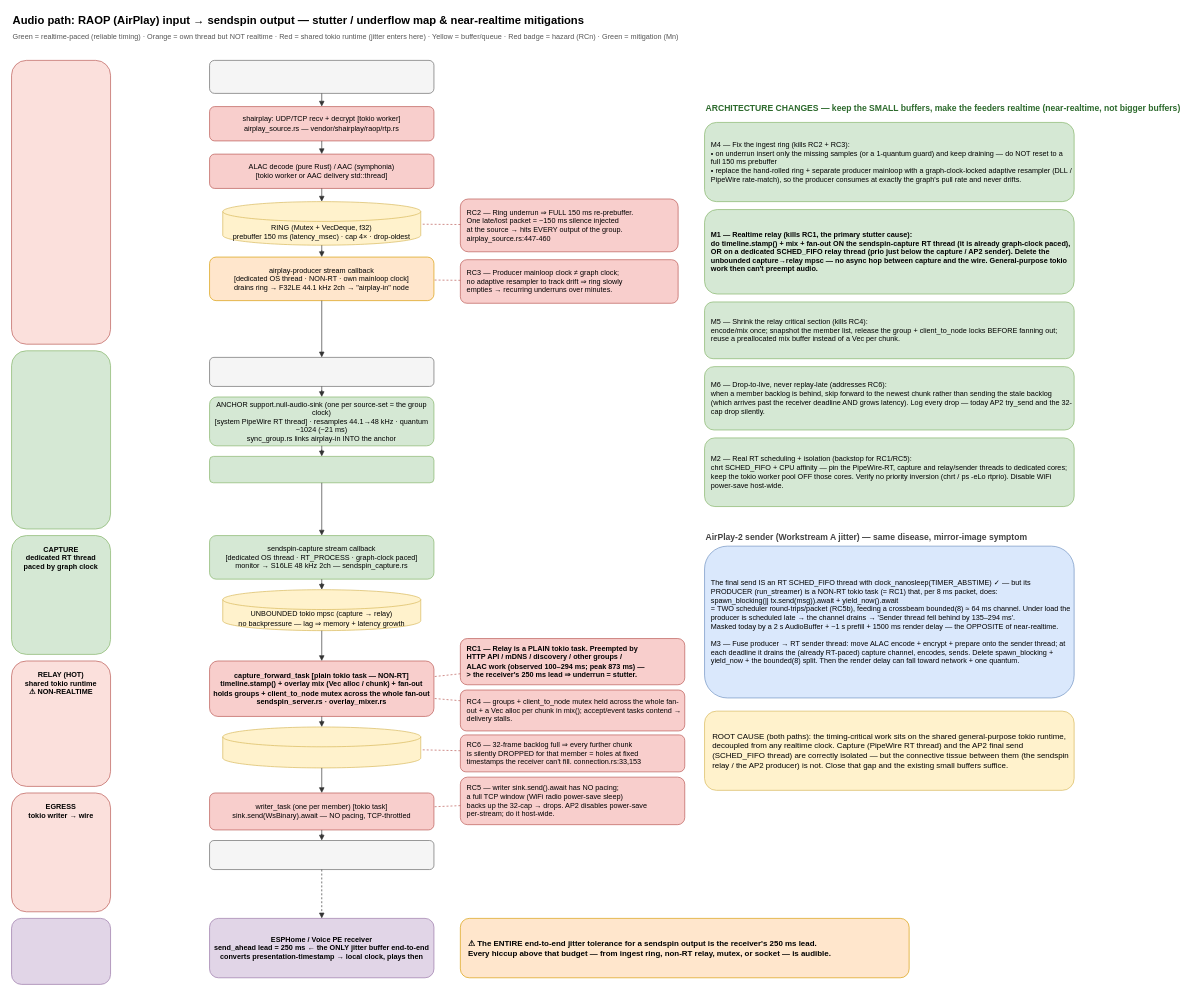
Some shapes in this 1192 by 996 pixel diagram are drawn without their labels. Each missing label, with the centre of its shape:
"airplay-in" PipeWire producer node (source): point 321,371
AirPlay sender (phone / Mac) RTP/RTSP over WiFi: point 321,76
anchor MONITOR ports: point 321,469
INGEST RAOP receiver (vendored shairplay) tokio + own thread: point 61,202
per-member enqueue_audio logical cap 32 frames → drop (Evicted) — connection.rs: point 321,747
PIPEWIRE GRAPH system RT thread graph clock ~48 kHz: point 61,439
RECEIVER ESPHome / Voice PE: point 61,951
WebSocket / TCP → WiFi: point 321,855
